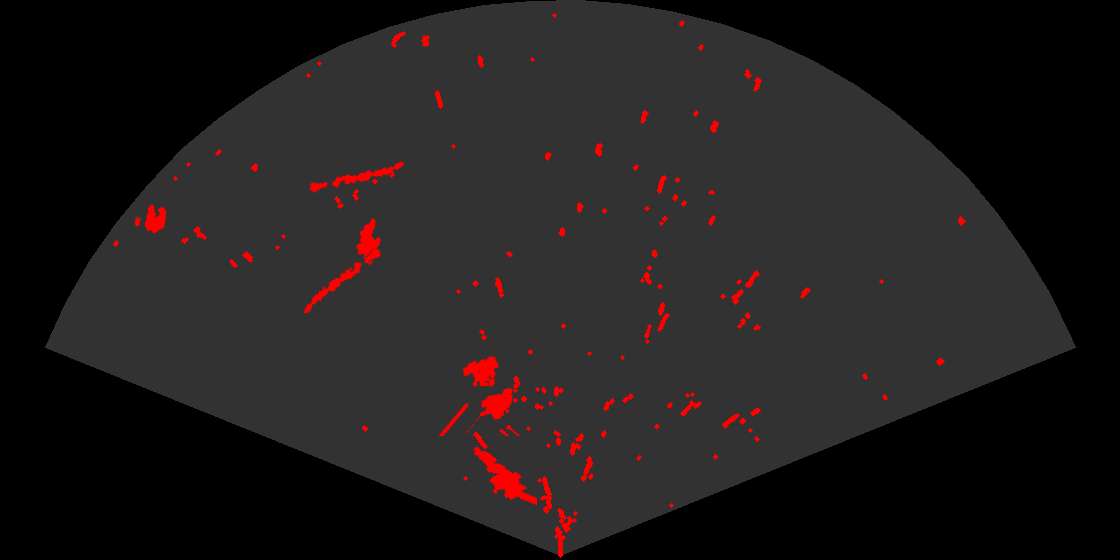AUV: (355, 216, 382, 267)
ball: (133, 202, 168, 235)
cage: (439, 355, 522, 436)
chain: (302, 247, 383, 315), (307, 160, 406, 195)
frogman: (472, 445, 537, 507)
